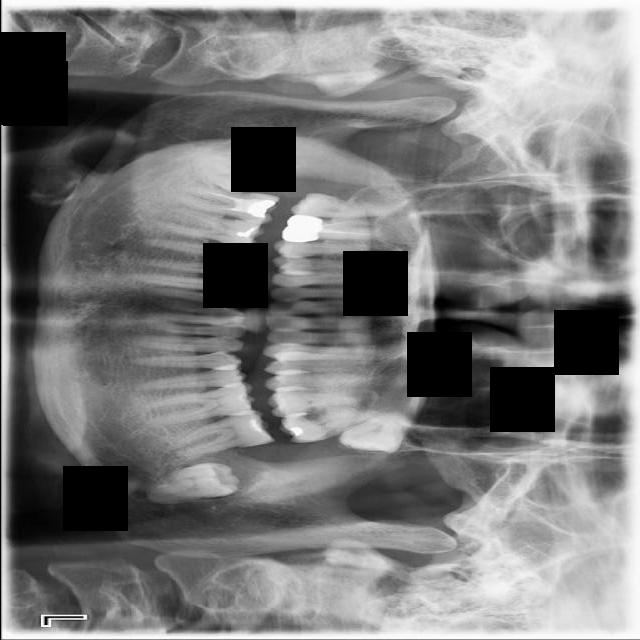52: (225, 186, 283, 227), (217, 210, 266, 253), (280, 214, 323, 242), (246, 418, 263, 437), (301, 413, 318, 420)
73: (176, 182, 244, 218), (321, 218, 393, 241), (30, 586, 40, 590)
BioHorizons Implant: (277, 406, 381, 445)
BioLife Implant: (338, 409, 408, 453)
Biomet 3i Implant: (142, 458, 241, 508)
Blue Sky Bio Implant: (165, 405, 275, 467)
Caries: (290, 191, 379, 222)
Implant: (175, 183, 283, 226)
Keystone Dental Implant: (184, 143, 276, 204)
